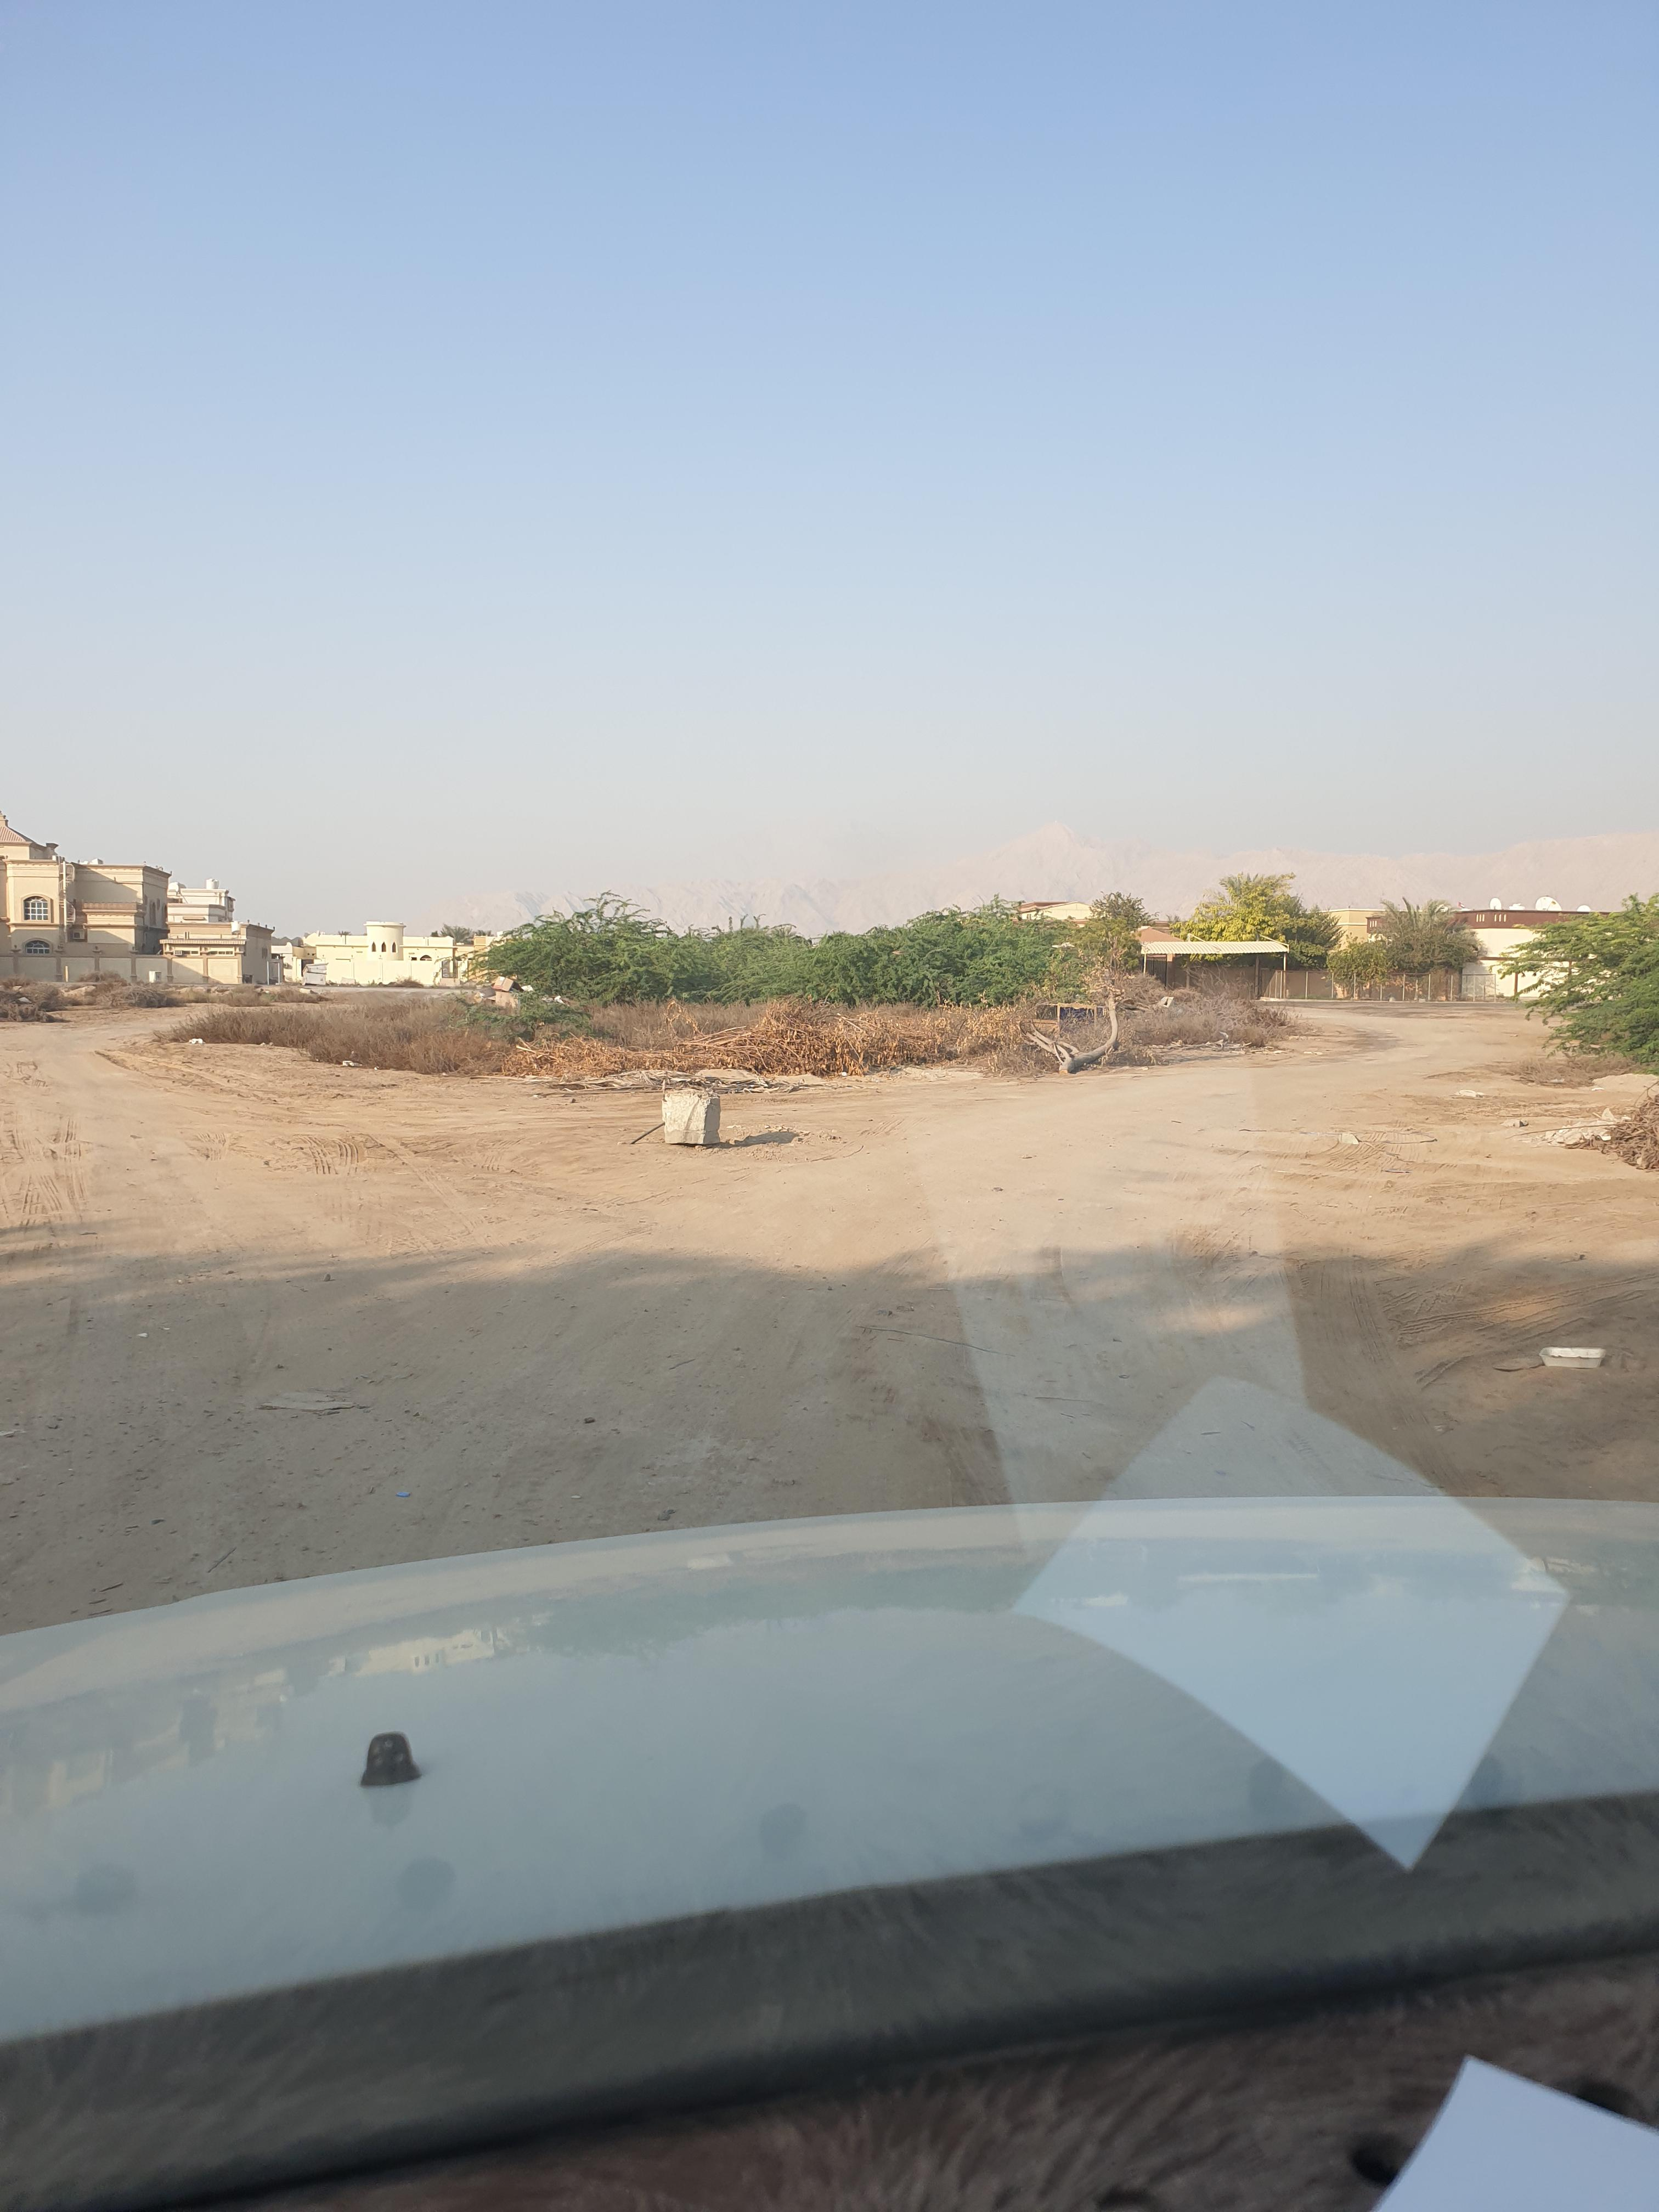fallen_trees: (505, 1040, 843, 1101), (990, 1014, 1129, 1099), (889, 1024, 1056, 1094), (732, 1036, 906, 1097)
